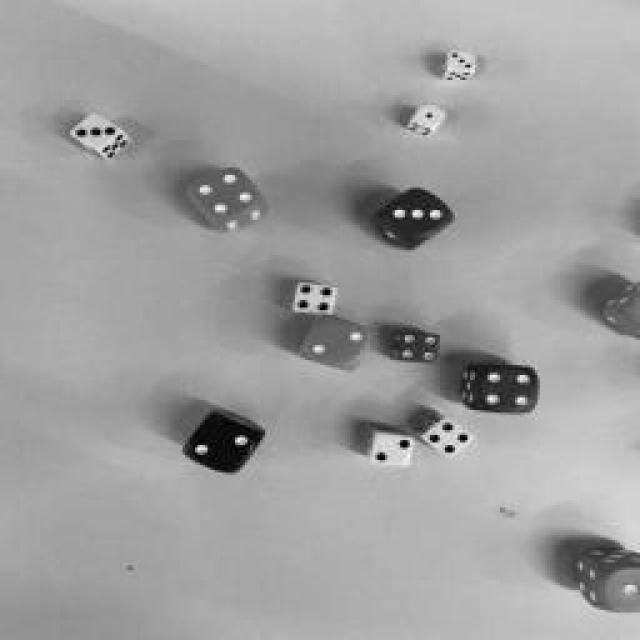dice_1: (607, 570, 640, 607), (415, 105, 445, 125)
dice_2: (190, 421, 255, 469), (306, 319, 369, 366), (372, 435, 412, 465)
dice_3: (385, 191, 450, 234), (71, 116, 121, 149), (449, 52, 476, 72)
dice_4: (191, 170, 259, 220), (479, 366, 536, 412), (425, 422, 473, 456), (294, 284, 336, 314), (400, 332, 440, 362)
